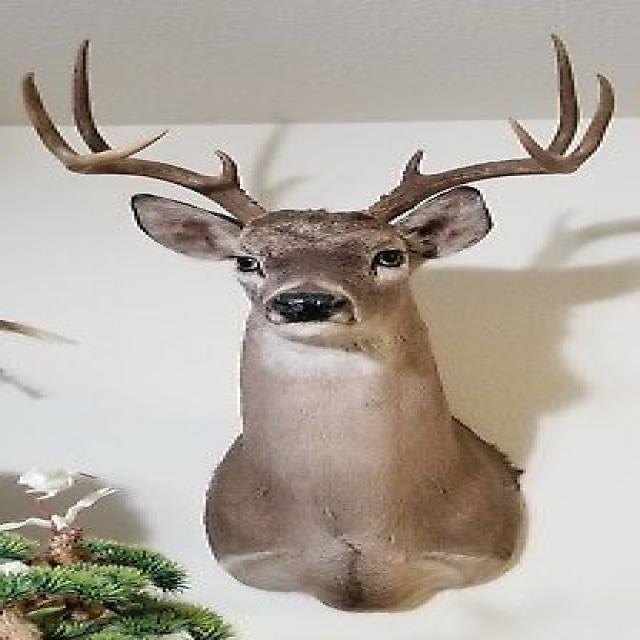L-F: (356, 117, 579, 229)
L-G1: (396, 148, 428, 187)
L-G2: (547, 33, 579, 156)
L-G3: (564, 73, 615, 169)
R-F: (60, 130, 266, 224)
R-G1: (213, 149, 241, 190)
R-G2: (74, 40, 109, 152)
R-G3: (20, 72, 78, 161)
